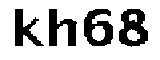6: (82, 7, 115, 50)
8: (117, 9, 150, 49)
h: (44, 5, 79, 48)
k: (11, 7, 43, 48)
